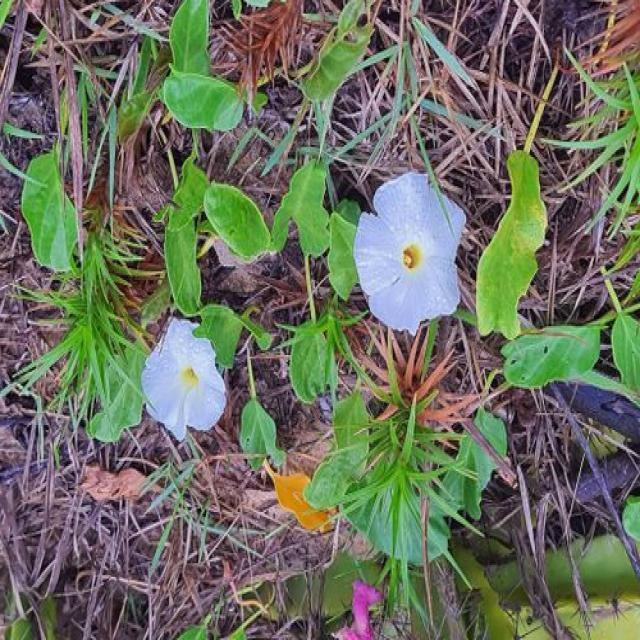ipomoea: (350, 168, 470, 338), (138, 312, 232, 444)
